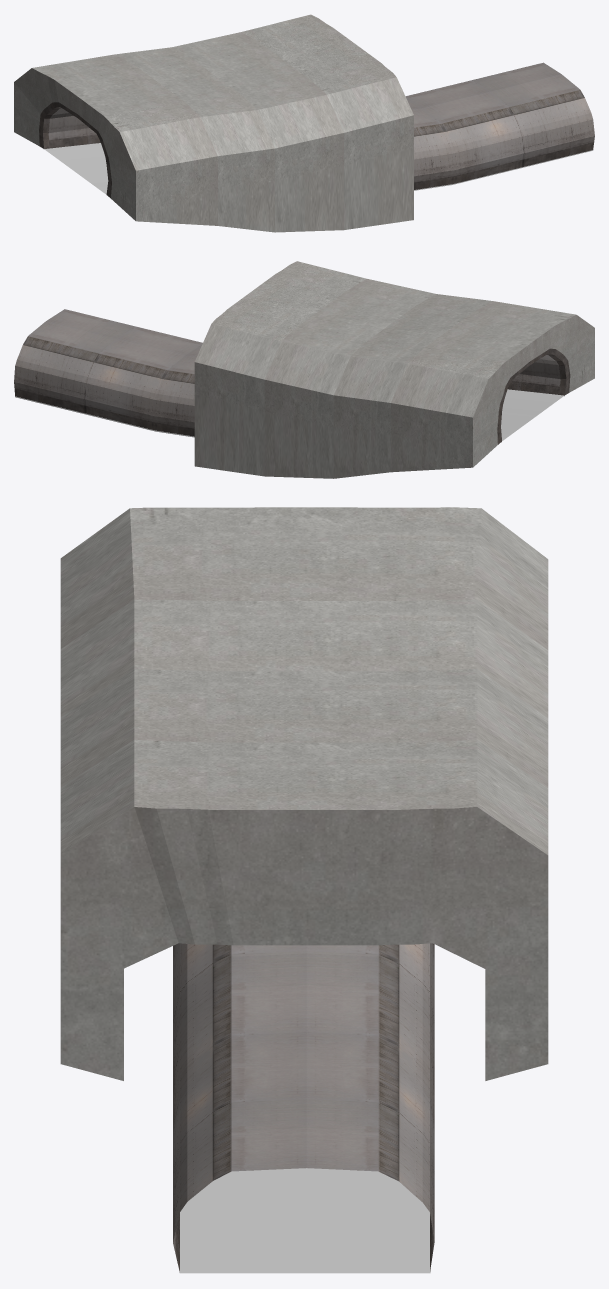
Rendered from underground_entrance.fbx.
3 views of the same model, one above another, from view 1: azimuth 30°, elevation 25°; view 2: azimuth 150°, elevation 25°; view 3: azimuth 270°, elevation 25° (orthographic). The views are drawn at different scales.
Parts seen in each view (by area): view 1: roads.001; view 2: roads.001; view 3: roads.001.
Boxes of the visible parts, left/top/right/bottom form: roads.001: left=14, top=14, right=594, bottom=232; roads.001: left=14, top=261, right=594, bottom=478; roads.001: left=60, top=507, right=548, bottom=1273.
Size of the model in its own units: 18818 by 5650 by 8156.
